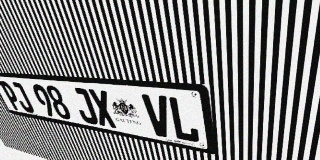8: (44, 85, 73, 120)
9: (30, 84, 58, 118)
J: (70, 87, 100, 125), (9, 82, 36, 113)
L: (167, 96, 200, 144)
P: (0, 81, 24, 111)
V: (141, 94, 174, 139)
X: (87, 89, 118, 129)
